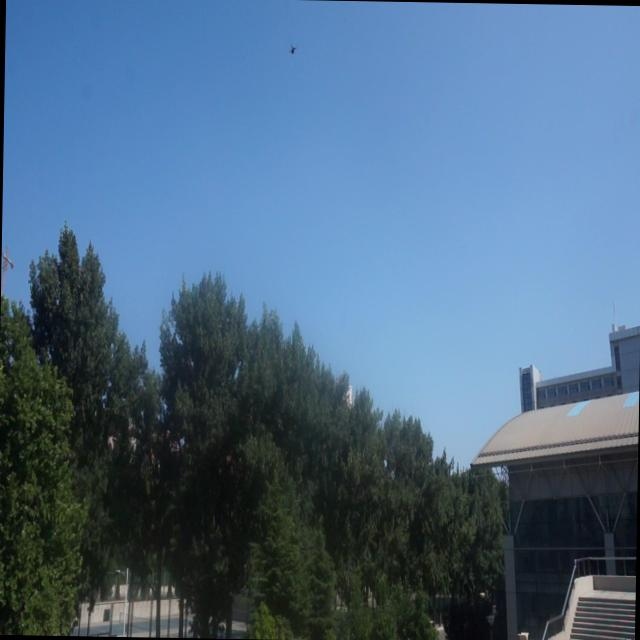drone: (288, 43, 296, 57)
